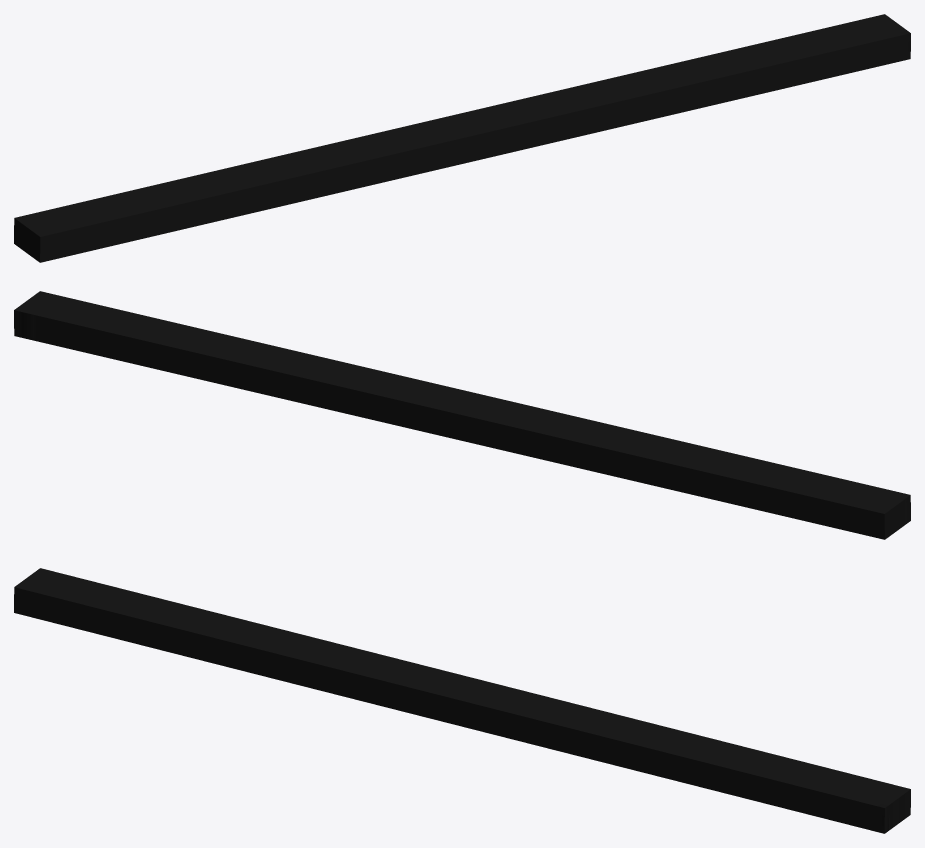
The model's file is frame__side_rail_0.glb.
The picture shows the model from 3 angles, top to bottom: view 1: azimuth 30°, elevation 25°; view 2: azimuth 150°, elevation 25°; view 3: azimuth 330°, elevation 25°; orthographic projection.
Parts seen in each view (by area): view 1: world; view 2: world; view 3: world.
Boxes of the visible parts, x1=… form: world: x1=14, y1=14, x2=910, y2=262; world: x1=14, y1=291, x2=910, y2=539; world: x1=14, y1=568, x2=910, y2=833.
Bounding box in the file's own units: 1.06 × 0.04 × 0.055.
Materials: 1 (1 with a texture image).
